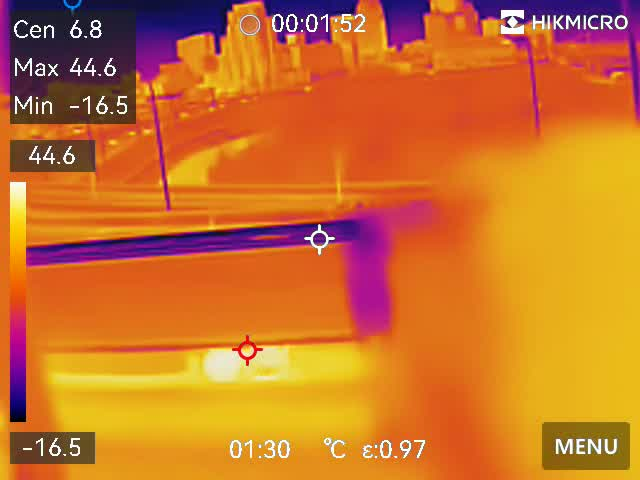heavyTruck: (25, 216, 392, 379)
